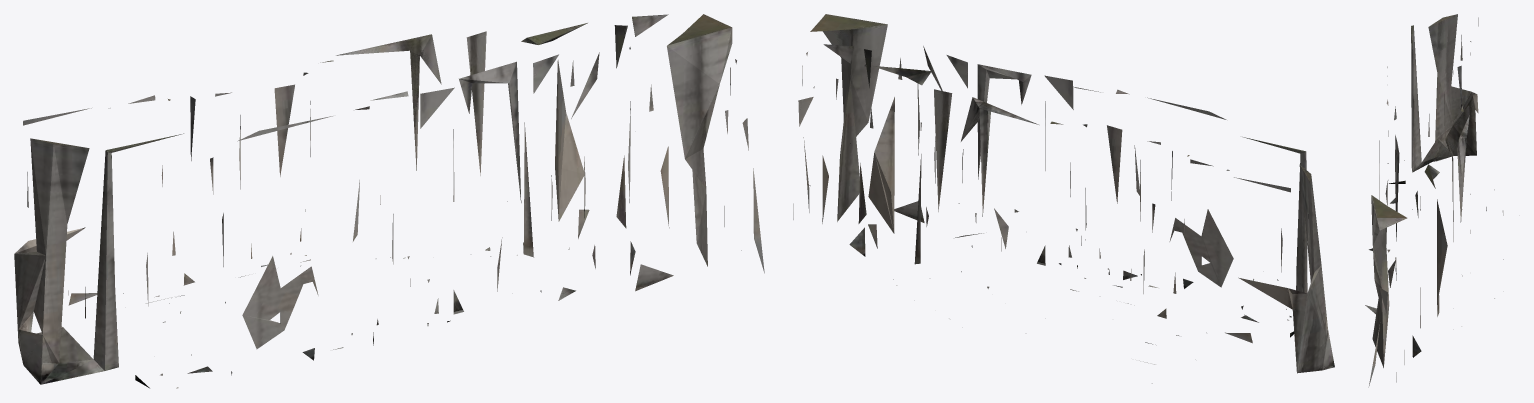
Rendered from limestone_cliff_lod0.glb.
3 renders of one model, left to right at view 1: azimuth 30°, elevation 25°; view 2: azimuth 150°, elevation 25°; view 3: azimuth 270°, elevation 25°, orthographic. The views are drawn at different scales.
Visible parts, largest first — view 1: limestone_cliff_lod0; view 2: limestone_cliff_lod0; view 3: limestone_cliff_lod0.
Part boxes in pixels (left/top/right/bottom): limestone_cliff_lod0: left=14, top=14, right=764, bottom=388; limestone_cliff_lod0: left=793, top=14, right=1334, bottom=383; limestone_cliff_lod0: left=1365, top=14, right=1503, bottom=387.
Bounding box in the file's own units: 0.979 × 0.3513 × 0.2972.
Materials: 1 (1 with a texture image).
